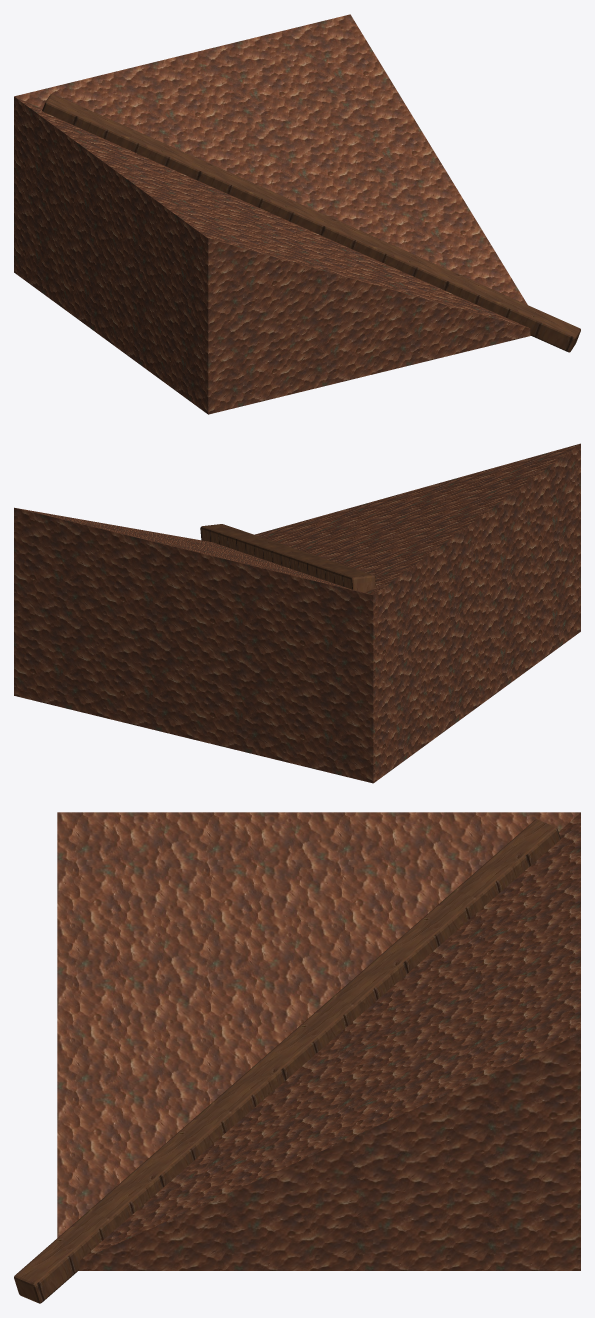
The model's file is roof_26_inner__copper_ingot.glb.
The picture shows the model from 3 angles, top to bottom: view 1: azimuth 30°, elevation 25°; view 2: azimuth 150°, elevation 25°; view 3: azimuth 270°, elevation 25°; orthographic projection. The views are drawn at different scales.
Parts seen in each view (by area): view 1: model; view 2: model; view 3: model.
Boxes of the visible parts, box(x1,y1,x2,y2) form: model: box(14, 14, 580, 414); model: box(14, 443, 580, 783); model: box(14, 812, 580, 1303).
Bounding box in the file's own units: 2.17 × 1.09 × 2.17.
2 materials, 2 textured.
